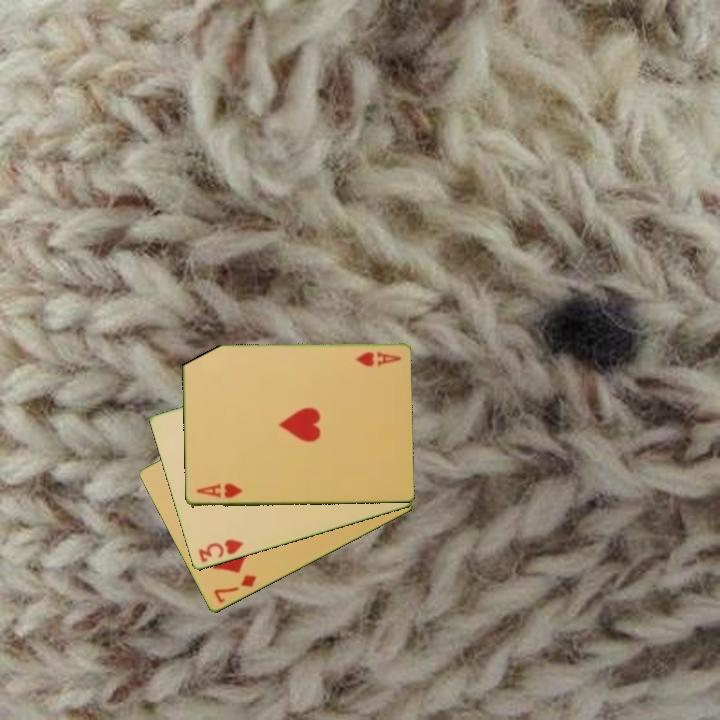3h: (195, 536, 246, 566)
7d: (210, 571, 260, 606)
Ah: (192, 481, 245, 501), (352, 349, 403, 368)
